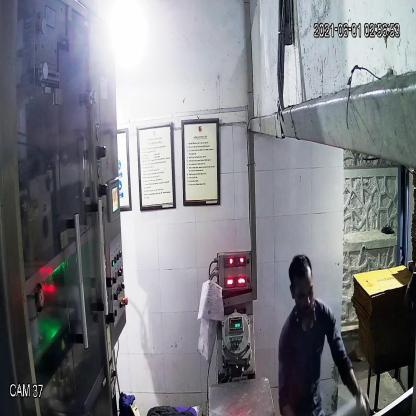no_goggles: (288, 280, 316, 303)
